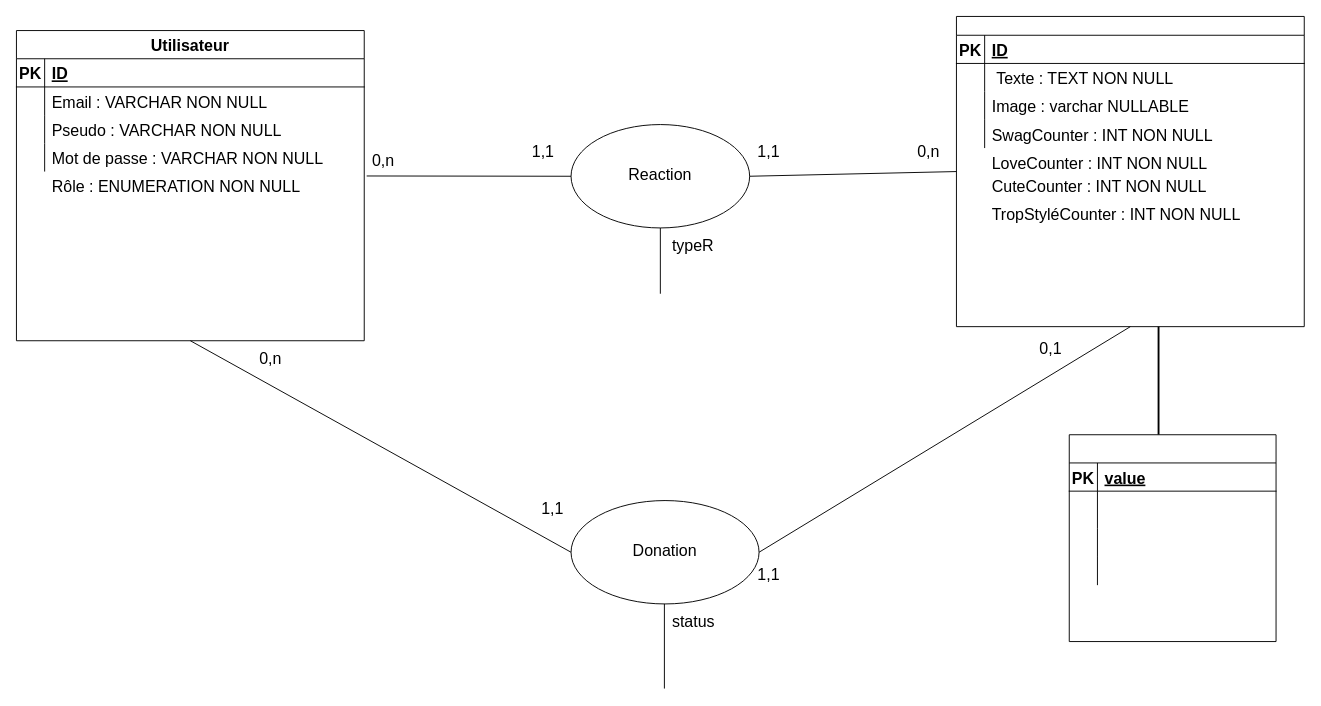
The diagram is 1321 pixels wide and 706 high, and some of its shapes have lost their labels. The shapes that lost their labels are listed below. From the top down, each one's box as (x1, y1, x2, y2) in pixels, then its label:
(956, 16, 1304, 327): Post (message)
(1068, 434, 1276, 642): Table
